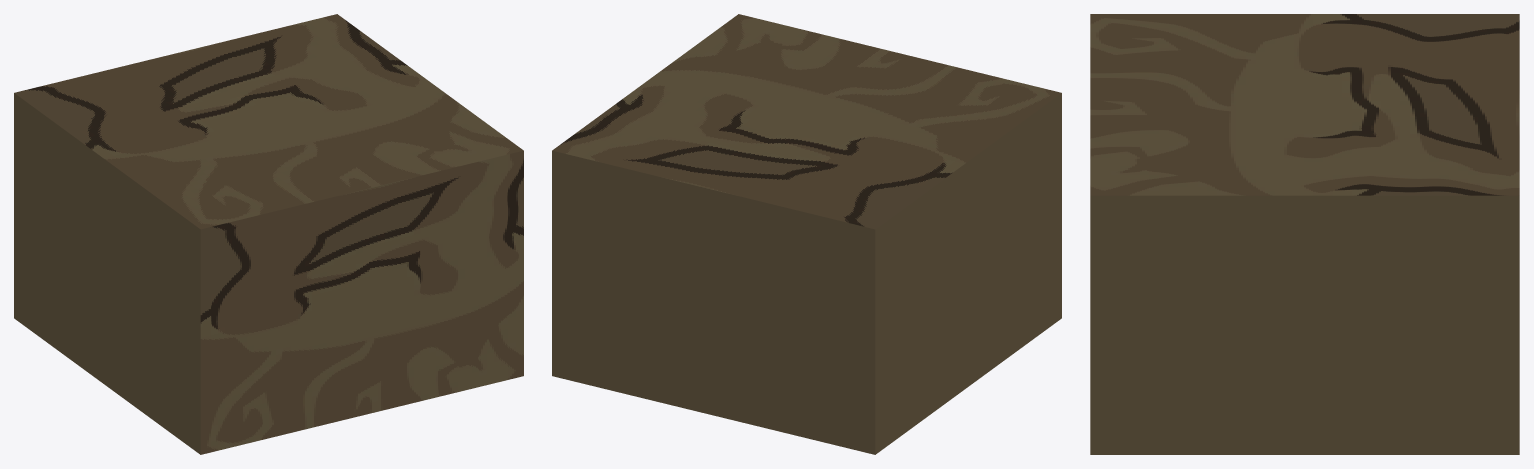
File: Building_NatureShrine_Small.glb
3 views of the same model, side by side, from view 1: azimuth 30°, elevation 25°; view 2: azimuth 150°, elevation 25°; view 3: azimuth 270°, elevation 25° (orthographic). The views are drawn at different scales.
Parts seen in each view (by area): view 1: NatureShrine_Small; view 2: NatureShrine_Small; view 3: NatureShrine_Small.
Part boxes in pixels (x1,y1,x2,y2): NatureShrine_Small: (14,14,523,454); NatureShrine_Small: (552,14,1061,454); NatureShrine_Small: (1090,14,1519,454).
Bounding box in the file's own units: 1.8 × 1.2 × 1.8.
1 material, 1 textured.
